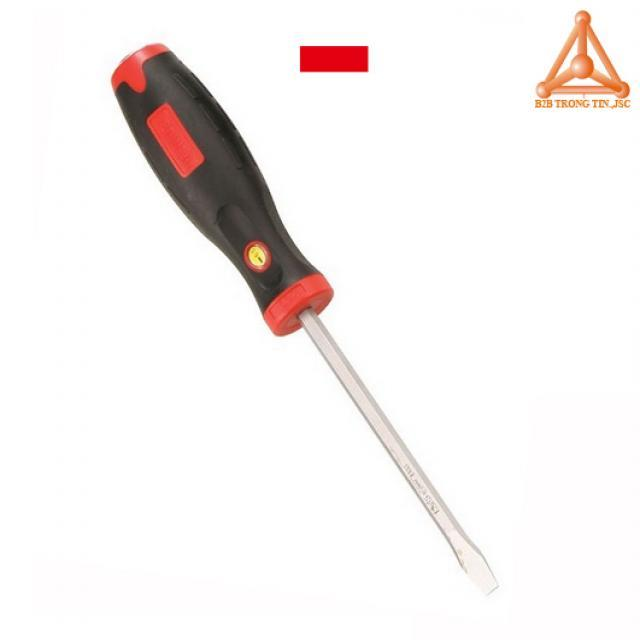screwdriver: (110, 39, 506, 601)
